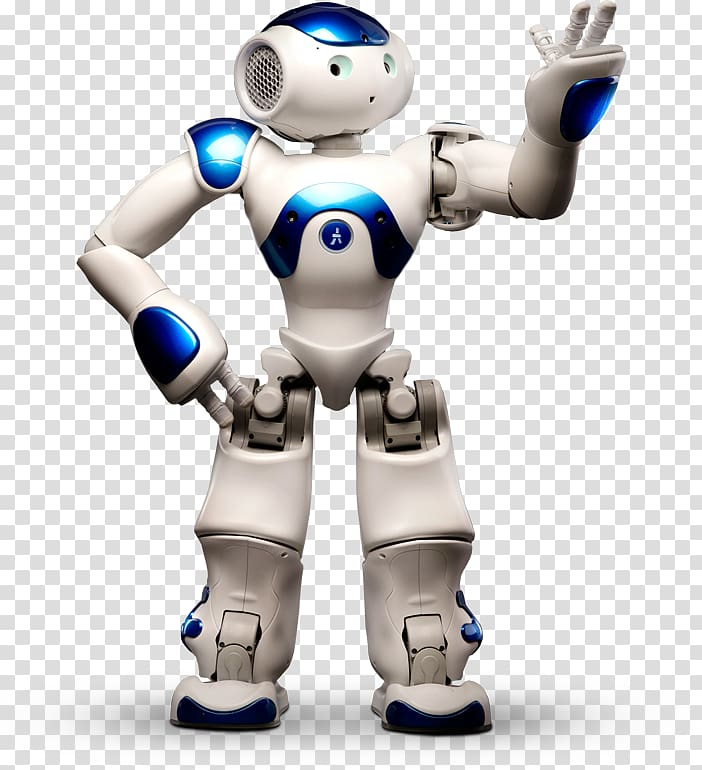nao: (53, 3, 650, 740)
